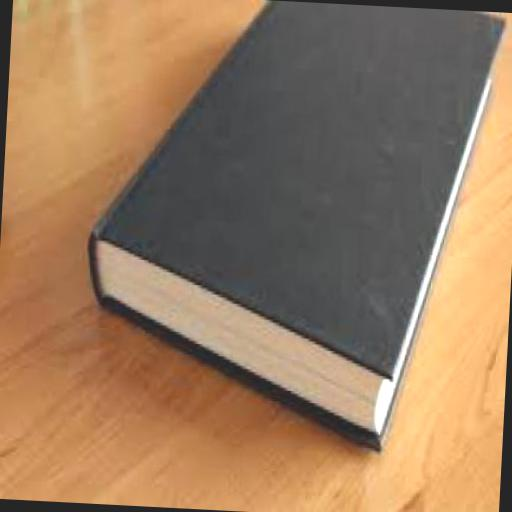paper: (75, 0, 506, 460)
